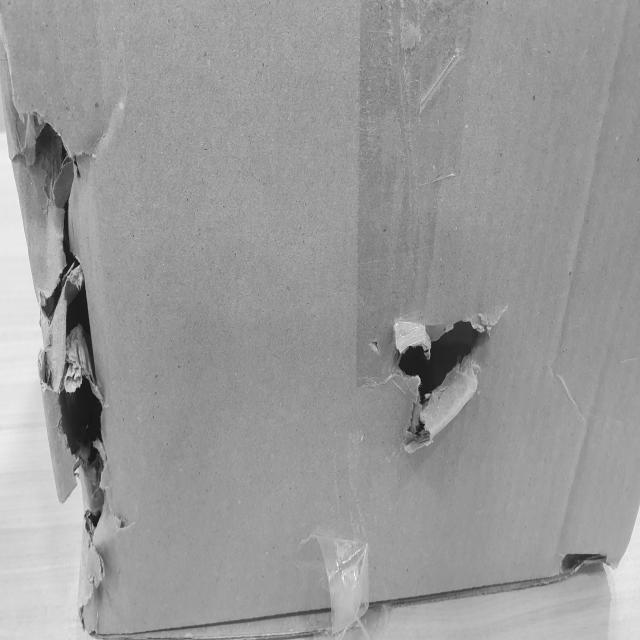hole: (19, 111, 129, 515), (385, 316, 498, 446), (538, 537, 616, 585)
